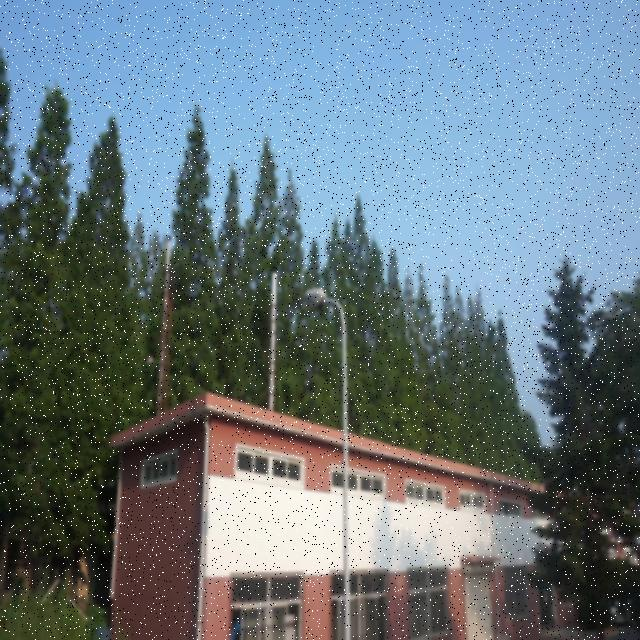UAV: (242, 232, 248, 240)
